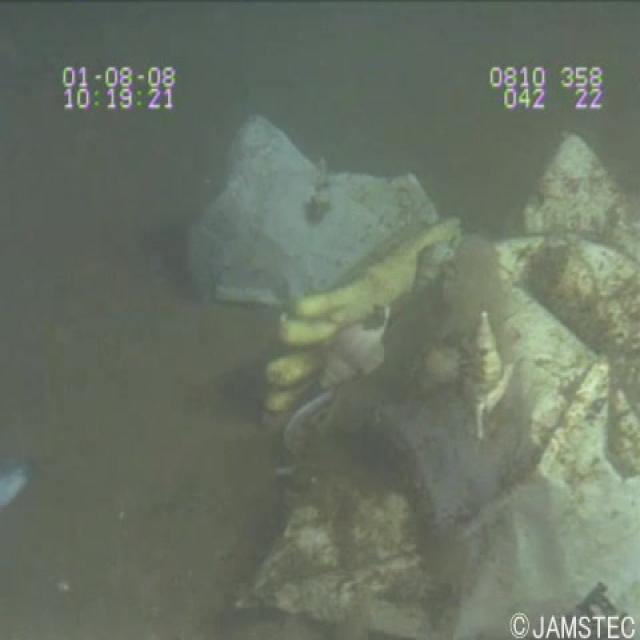plastic: (148, 94, 636, 628)
